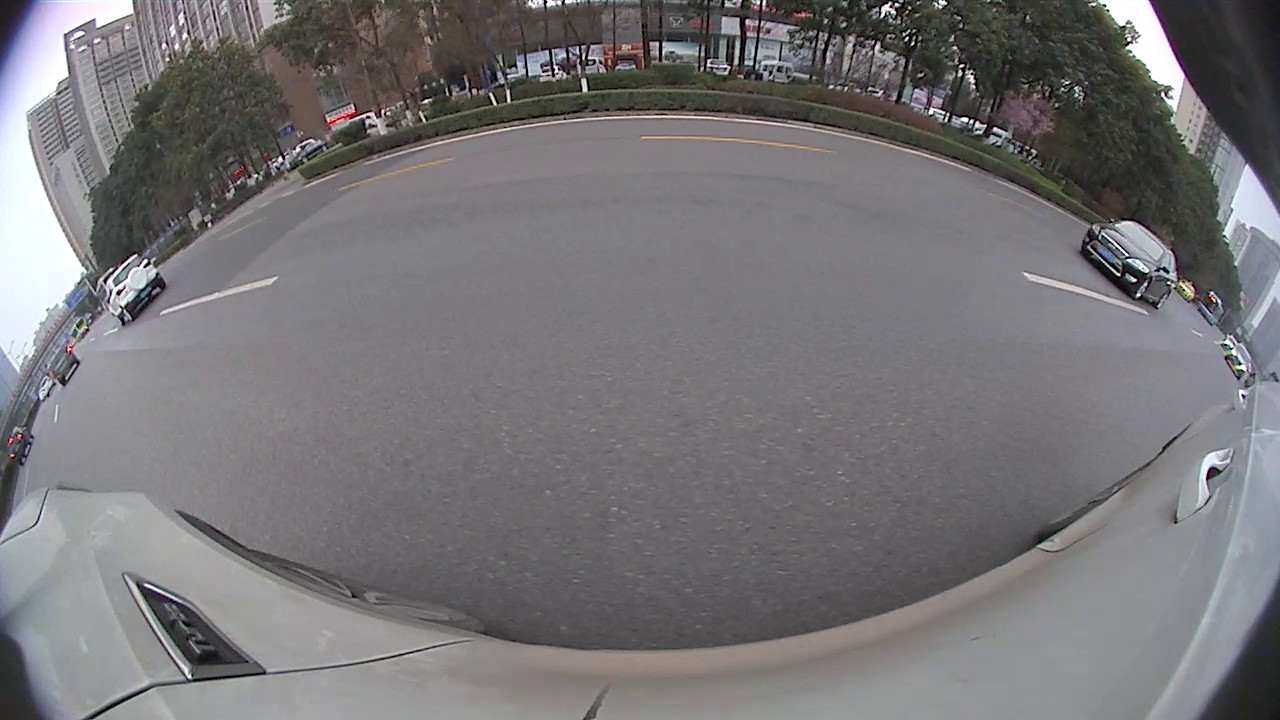car: (1079, 218, 1178, 310), (98, 252, 167, 326), (46, 344, 80, 386), (5, 426, 35, 466), (1225, 343, 1253, 382)
front: (1133, 279, 1152, 298)
rear: (1154, 292, 1171, 308)
